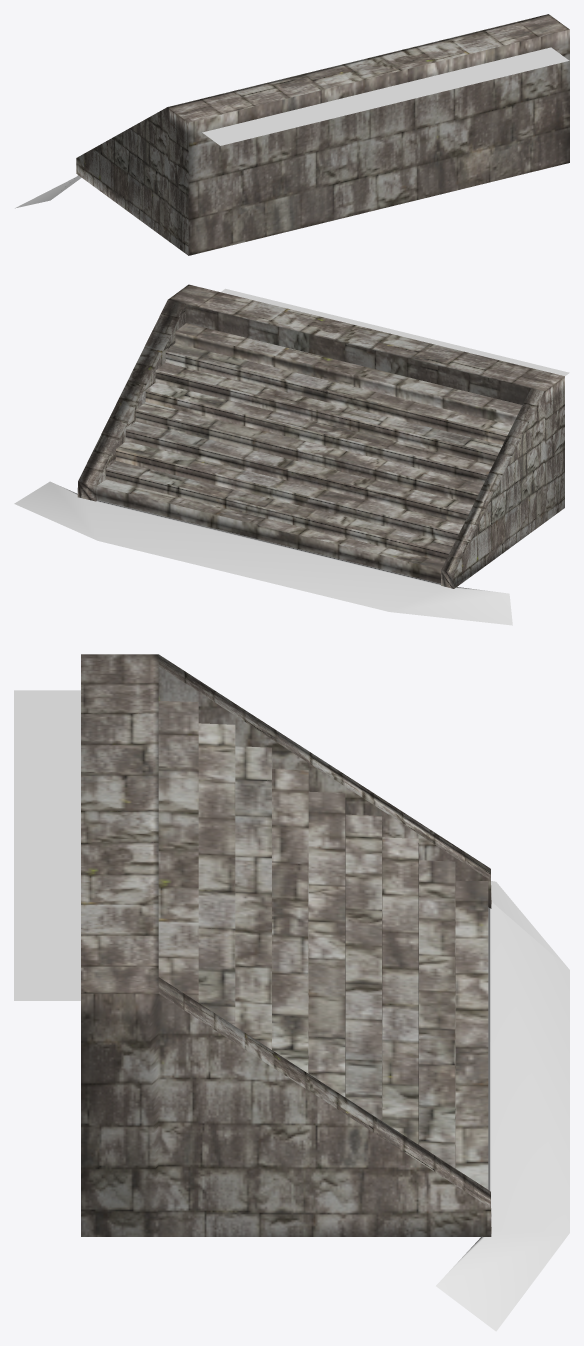
Rendered from staircase_lg.glb.
3 renders of one model, top to bottom at view 1: azimuth 30°, elevation 25°; view 2: azimuth 150°, elevation 25°; view 3: azimuth 270°, elevation 25°, orthographic. The views are drawn at different scales.
Visible parts, largest first — view 1: staircase_lg; view 2: staircase_lg; view 3: staircase_lg.
Boxes of the visible parts, x1,y1,x2,y2 form: staircase_lg: [15, 14, 569, 255]; staircase_lg: [14, 284, 569, 625]; staircase_lg: [14, 654, 569, 1331].
Bounding box in the file's own units: 16.47 × 4.81 × 8.6.
Materials: 2 (1 with a texture image).
